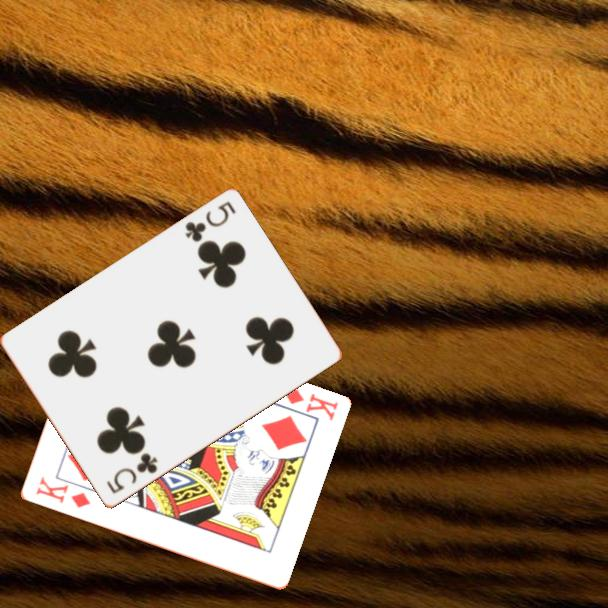c05: (181, 198, 239, 246), (103, 450, 161, 497)
d13: (280, 385, 341, 424), (32, 473, 93, 511)
